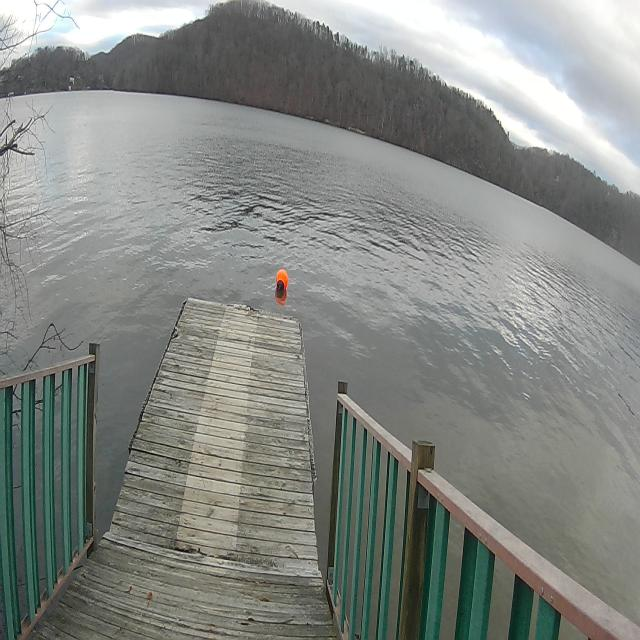Buoy: (273, 264, 290, 296)
